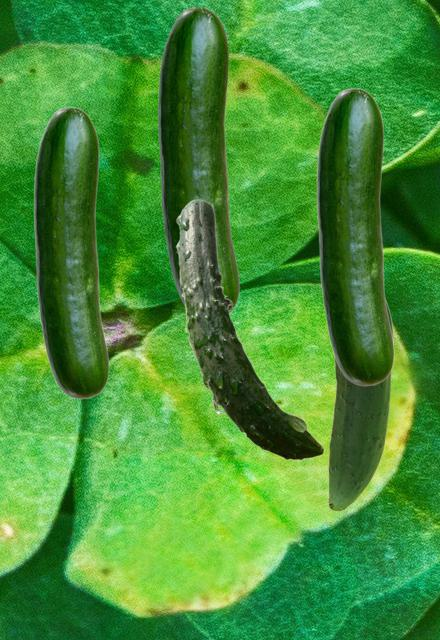cucumber: (175, 199, 323, 459), (158, 7, 238, 313), (316, 87, 393, 385), (33, 106, 108, 398), (328, 301, 392, 510)
